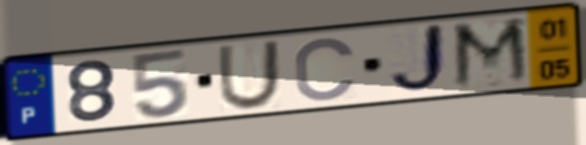5: (128, 46, 192, 121)
8: (63, 58, 120, 125)
C: (292, 35, 360, 104)
J: (385, 20, 451, 98)
M: (449, 14, 536, 93)
U: (215, 38, 283, 112)
